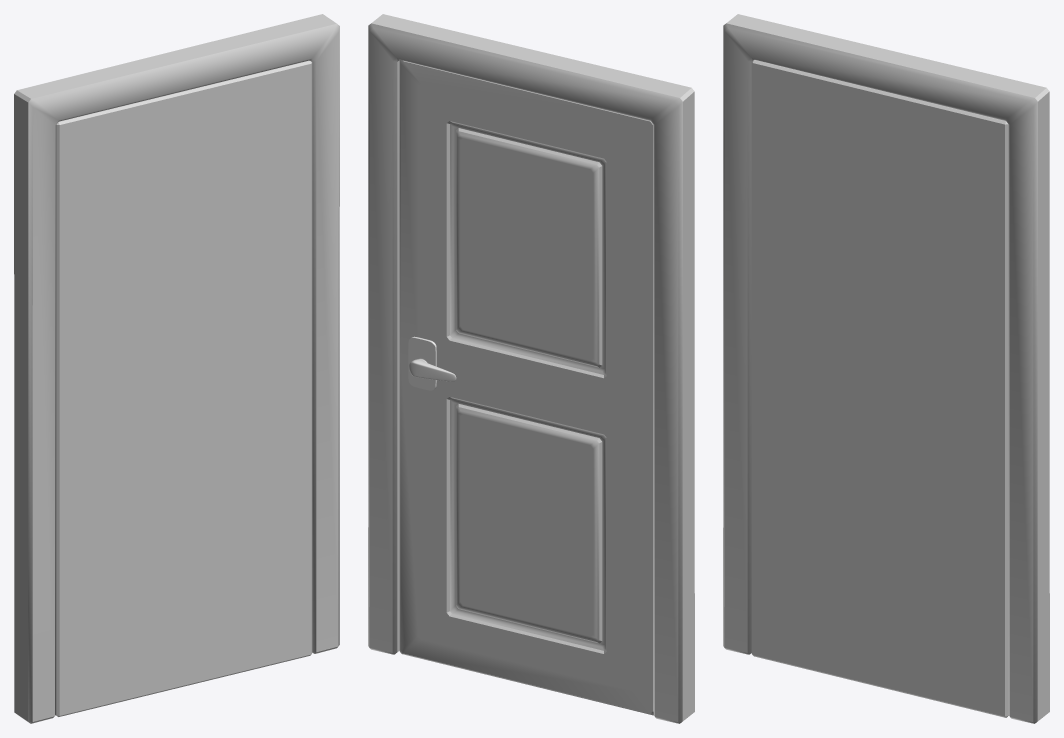
Rendered from door.fbx.
3 views of the same model, side by side, from view 1: azimuth 30°, elevation 25°; view 2: azimuth 150°, elevation 25°; view 3: azimuth 330°, elevation 25° (orthographic).
Visible parts, largest first — view 1: Door, Door Frame; view 2: Door, Door Frame, Handle; view 3: Door, Door Frame.
Part boxes in pixels (left/top/right/bottom): Door: left=56, top=60, right=312, bottom=716; Door Frame: left=14, top=14, right=339, bottom=723; Door: left=399, top=60, right=653, bottom=715; Door Frame: left=368, top=14, right=694, bottom=723; Handle: left=408, top=336, right=456, bottom=390; Door: left=751, top=60, right=1008, bottom=717; Door Frame: left=723, top=14, right=1049, bottom=723.
Size of the model in its own units: 110 by 210 by 13.87.
